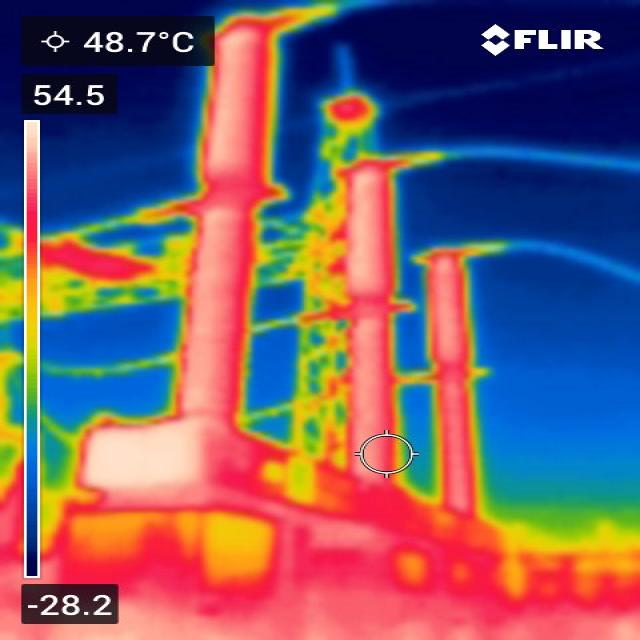Zona_Critica: (358, 483, 421, 534)
Zona_Extrema: (67, 605, 635, 639), (184, 213, 239, 415), (435, 263, 471, 512), (91, 420, 205, 486), (358, 173, 381, 433), (209, 34, 249, 167)
